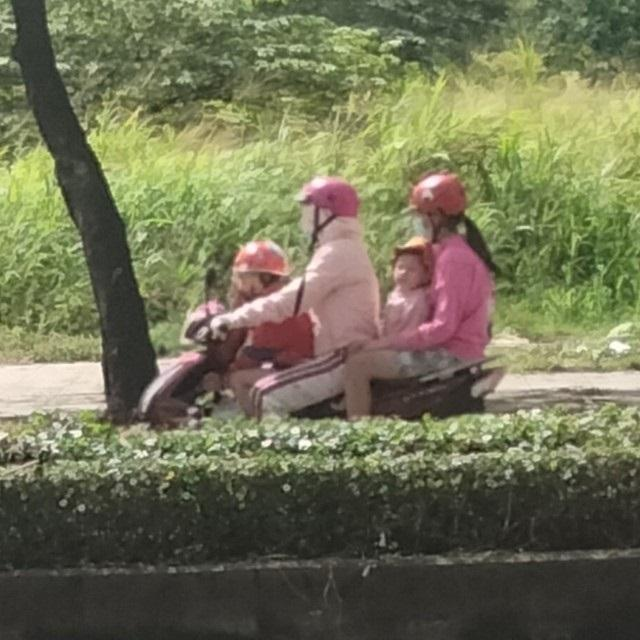Helmet: (297, 177, 361, 243), (406, 172, 464, 244), (228, 236, 288, 300)
